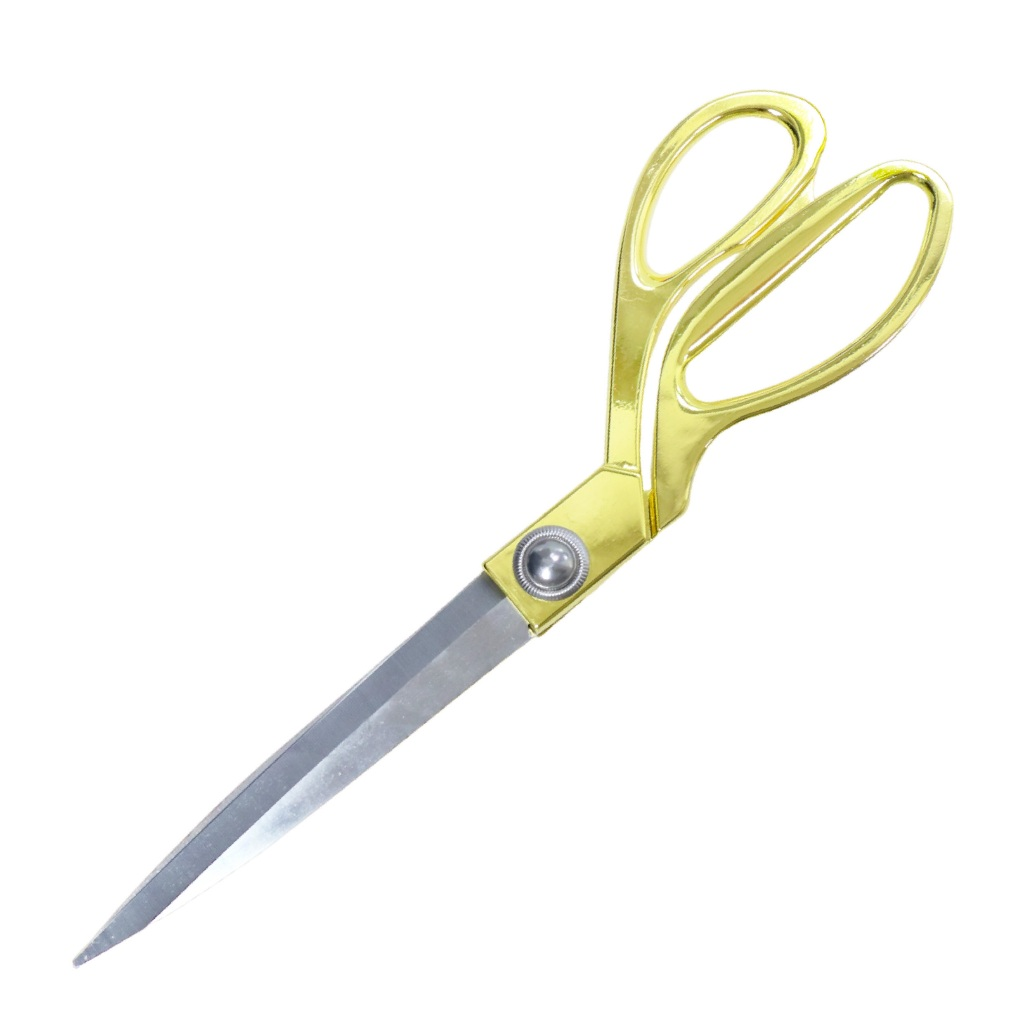scissors: (67, 83, 972, 968)
